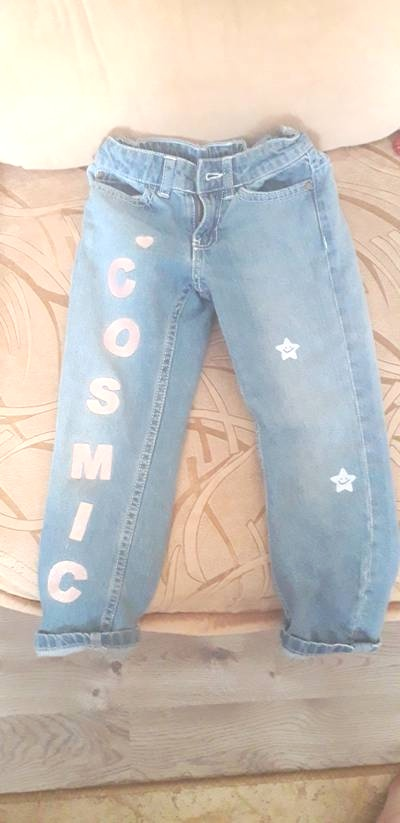Pants: (41, 117, 383, 685)
